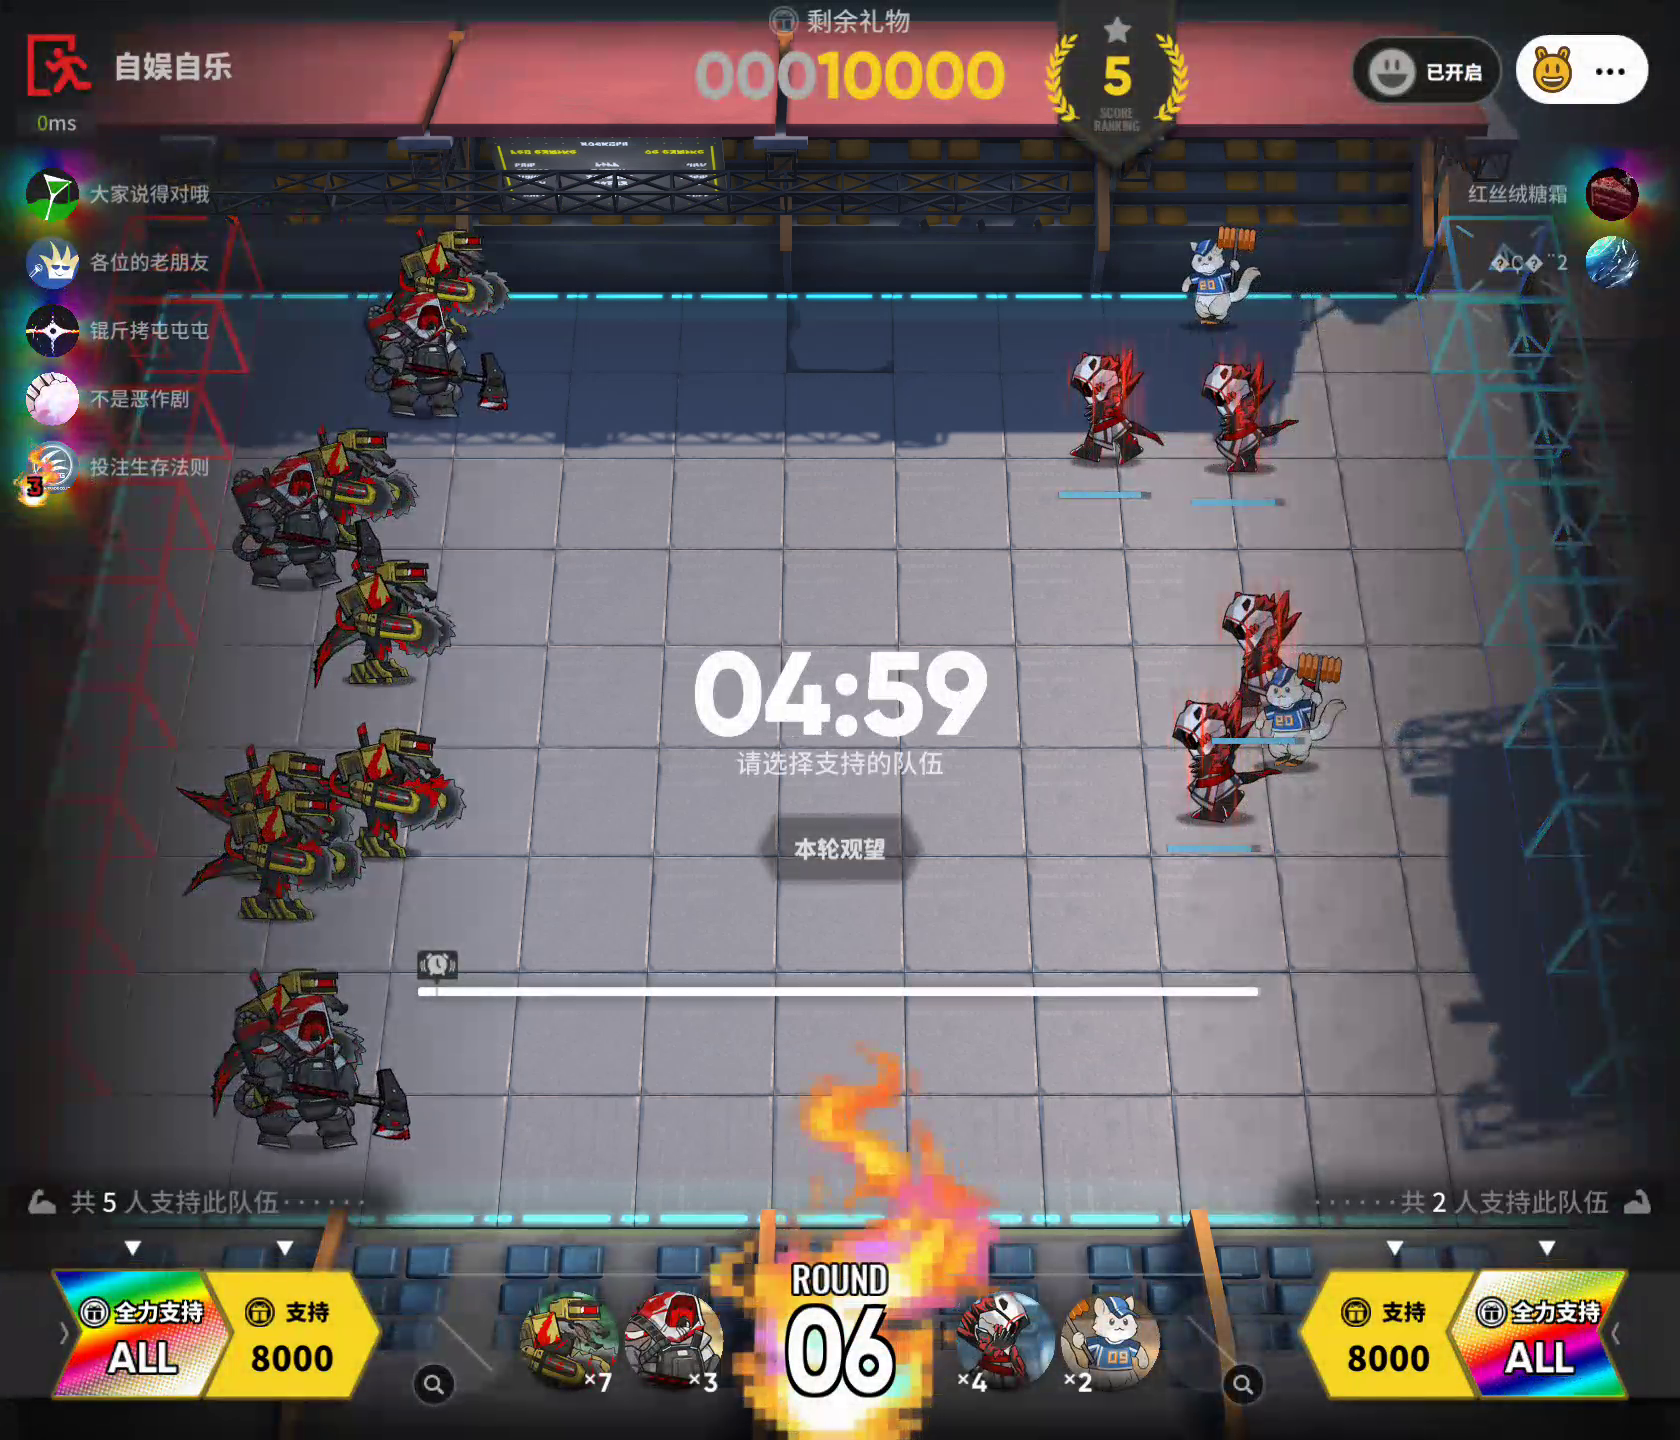“大斧”: (209, 993, 413, 1154), (354, 283, 523, 449), (236, 450, 387, 593), (621, 1284, 737, 1391)
大力锤球手: (1054, 1287, 1166, 1391), (1260, 653, 1361, 766), (1179, 219, 1270, 331)
机鳄战甲: (193, 789, 360, 929), (319, 709, 466, 866), (266, 420, 419, 561), (309, 551, 456, 697), (183, 731, 340, 853), (234, 957, 370, 1076), (394, 221, 517, 347), (519, 1284, 620, 1394)
苦难的具象: (1173, 689, 1284, 839), (1060, 344, 1173, 474), (1194, 350, 1303, 483), (1219, 580, 1321, 701), (951, 1287, 1057, 1391)
